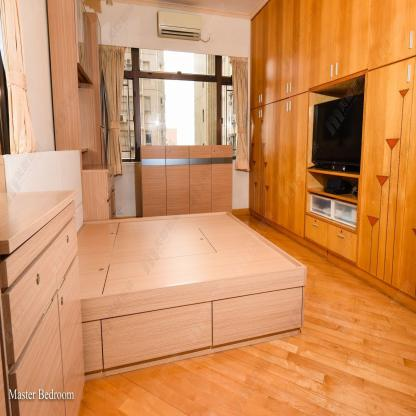AC: (158, 10, 201, 41)
Bed Frame: (78, 208, 308, 384)
Cupboard: (140, 145, 234, 216)
